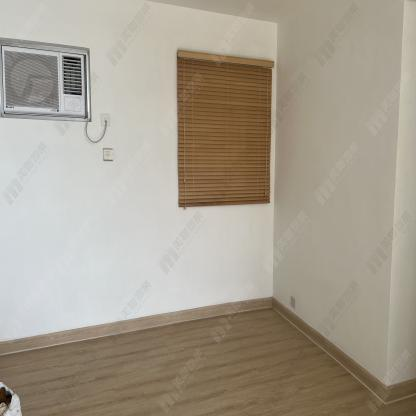AC: (1, 43, 87, 120)
